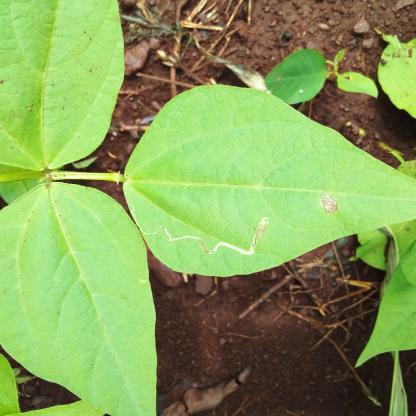Beans_Angular_LeafSpot: (125, 80, 416, 276)
